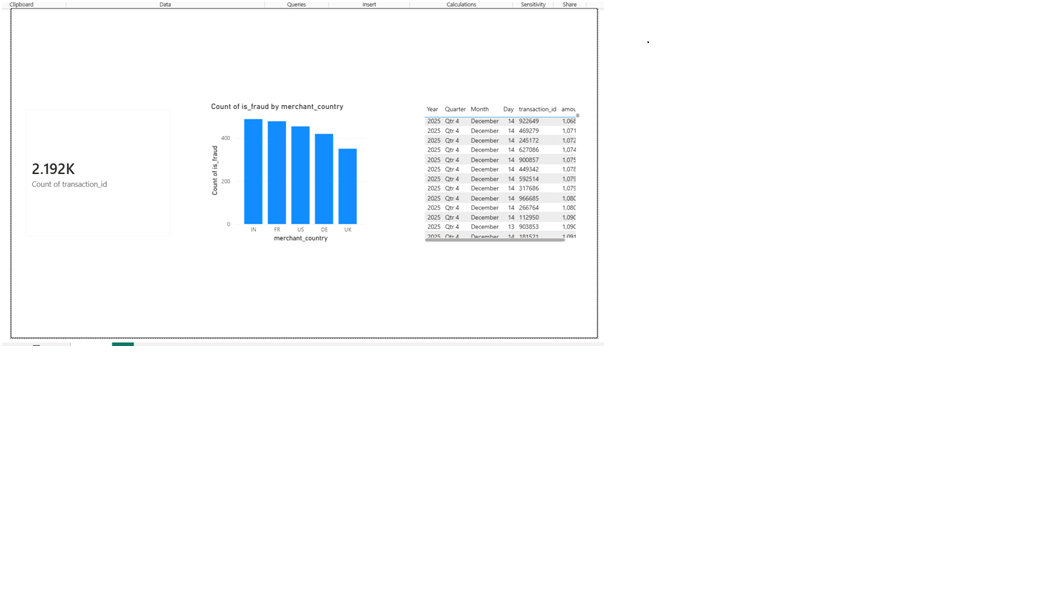

What the dashboard file says about the page in this screenshot:
{"tool":"powerbi","page":{"name":"Page 1","canvas":[1280,720],"ordinal":0},"visuals":[{"type":"cardVisual","fields":{"Data":["Count(fraud_transactions.transaction_id)"]},"box":[15.7,203.9,349.9,311.3],"z":0},{"type":"columnChart","fields":{"Category":["fraud_transactions.merchant_country"],"Y":["CountNonNull(fraud_transactions.is_fraud)"]},"box":[431.9,203.9,349.9,311.3],"z":1},{"type":"tableEx","fields":{"Values":["fraud_transactions.timestamp.Variation.Date Hierarchy.Year","fraud_transactions.timestamp.Variation.Date Hierarchy.Quarter","fraud_transactions.timestamp.Variation.Date Hierarchy.Month","fraud_transactions.timestamp.Variation.Date Hierarchy.Day","fraud_transactions.transaction_id","fraud_transactions.amount"]},"box":[896.4,203.9,349.9,311.3],"z":2}]}

Visuals, with their boxes on the page's 1280x720 design canvas (x1, y1, x2, y2). These are canvas units, not pixel positions in the 1044x608 screenshot, which may show the page scaled, cropped or inside an application window:
cardVisual - Count(fraud_transactions.transaction_id): box=[16, 204, 366, 515]
columnChart - fraud_transactions.merchant_country x CountNonNull(fraud_transactions.is_fraud): box=[432, 204, 782, 515]
tableEx - fraud_transactions.timestamp.Variation.Date Hierarchy.Year x fraud_transactions.timestamp.Variation.Date Hierarchy.Quarter: box=[896, 204, 1246, 515]
